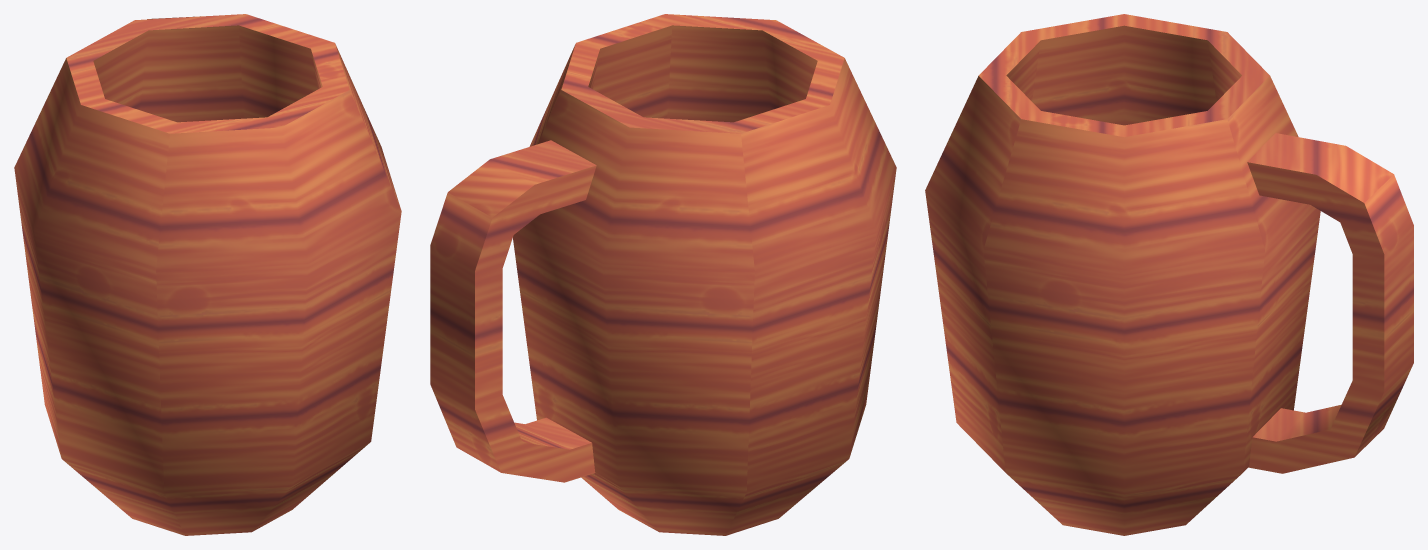
File: Cup.fbx
The picture shows the model from 3 angles, left to right: view 1: azimuth 30°, elevation 25°; view 2: azimuth 150°, elevation 25°; view 3: azimuth 270°, elevation 25°; orthographic projection.
Visible parts, largest first — view 1: Cup; view 2: Cup; view 3: Cup.
Boxes of the visible parts, left/top/right/bottom form: Cup: left=14, top=14, right=401, bottom=535; Cup: left=430, top=14, right=896, bottom=535; Cup: left=925, top=14, right=1413, bottom=535.
Size of the model in its own units: 0.2642 by 0.3099 by 0.3241.
